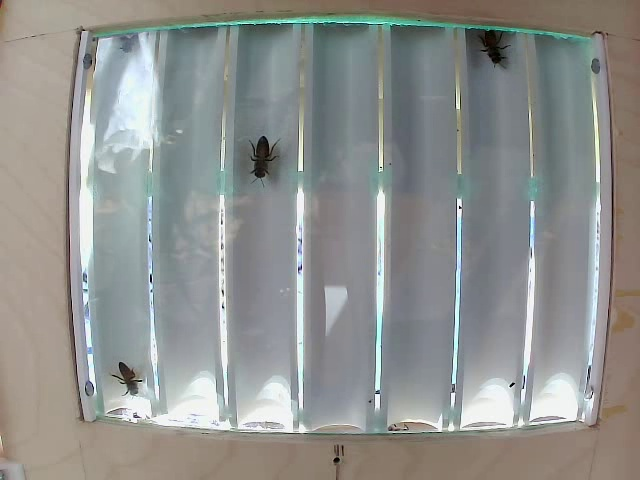bee: (243, 129, 283, 192), (476, 25, 509, 86)
